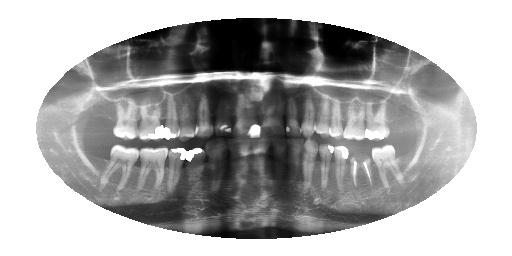Cavity: (349, 147, 373, 194)
Fillings: (138, 99, 165, 142), (364, 99, 389, 140), (164, 148, 186, 192), (186, 147, 206, 194), (332, 145, 349, 191), (165, 95, 180, 140)
